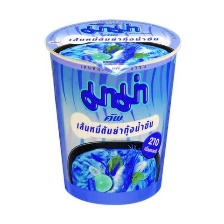paper_cup: (39, 15, 185, 207)
